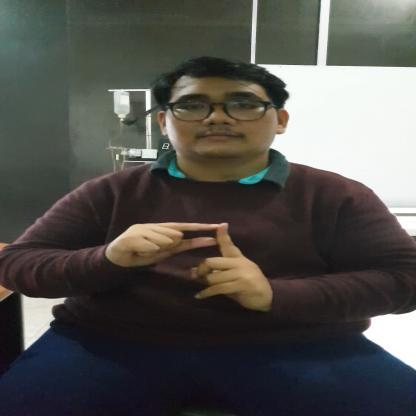P: (108, 221, 272, 311)
